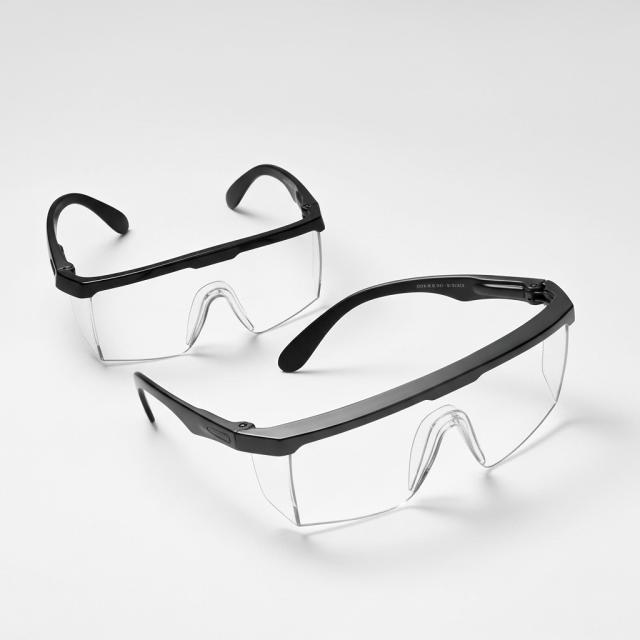oculos-epi: (134, 275, 574, 526), (46, 164, 324, 362)
